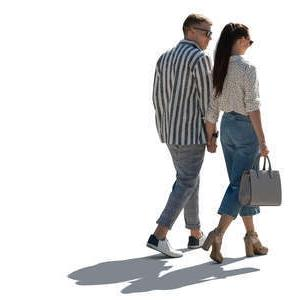long sleeve shirt: (151, 39, 213, 146)
short sleeve shirt: (205, 56, 261, 125)
trousers: (216, 111, 263, 219), (154, 140, 206, 231)
